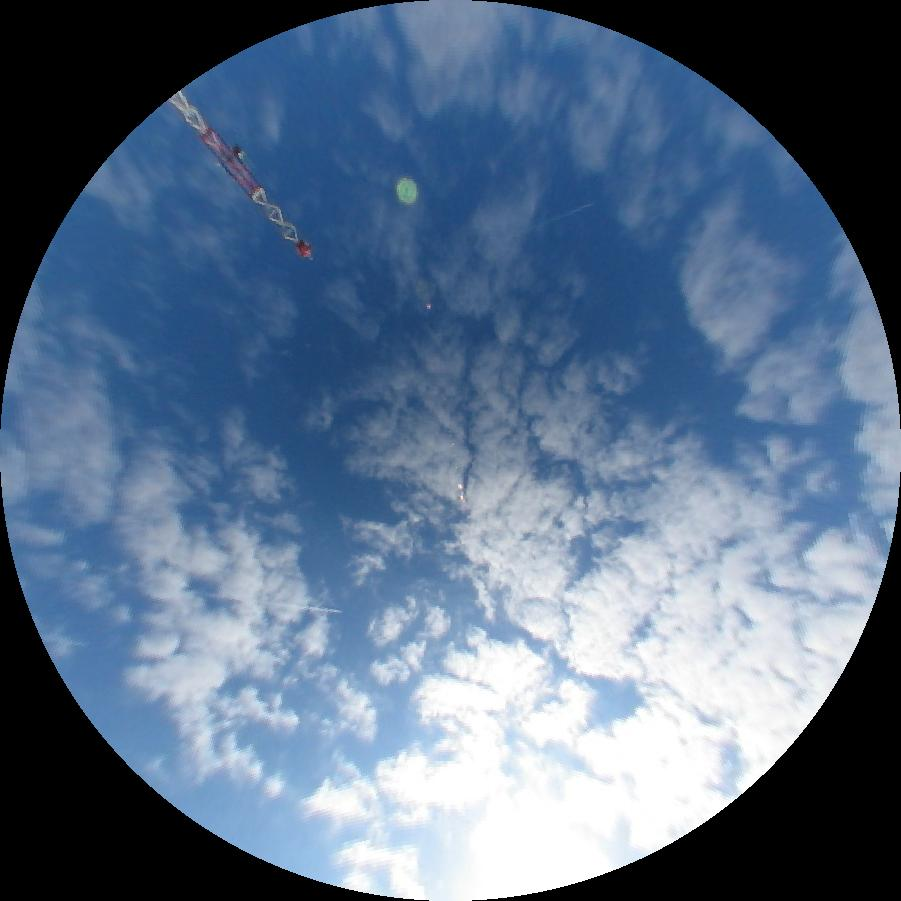contrail young: (193, 590, 344, 614), (530, 203, 594, 228)
